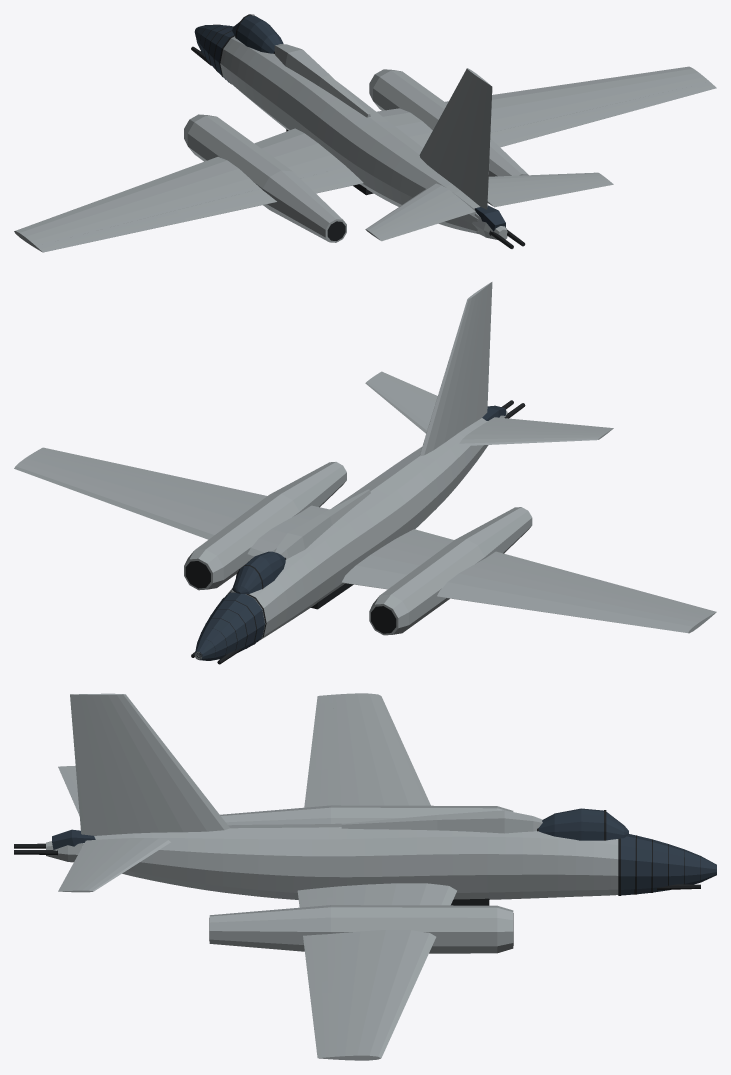
The picture shows the model from 3 angles, top to bottom: view 1: azimuth 30°, elevation 25°; view 2: azimuth 150°, elevation 25°; view 3: azimuth 270°, elevation 25°; orthographic projection. The views are drawn at different scales.
Visible parts, largest first — view 1: Fuselage, Wing L, Nacelles, Wing R, Vertical Fin, Rudder, Flap L, Stabilizer L, Dorsal Fairing, Stabilizer R, Flap R, Elevator R (+7 smaller); view 2: Fuselage, Nacelles, Wing L, Wing R, Vertical Fin, Nose Glass, Stabilizer L, Rudder, Dorsal Fairing, Stabilizer R, Cockpit Glass, Flap L (+4 smaller); view 3: Fuselage, Nacelles, Wing R, Vertical Fin, Wing L, Rudder, Nose Glass, Dorsal Fairing, Stabilizer R, Cockpit Glass, Flap R, Aileron R (+3 smaller).
Part boxes in pixels (box(x1,y1,x2,y2)): Fuselage: box(220, 36, 480, 233); Wing L: box(14, 128, 363, 252); Nacelles: box(184, 69, 528, 242); Wing R: box(376, 66, 716, 147); Vertical Fin: box(419, 68, 483, 189); Rudder: box(460, 80, 492, 209); Flap L: box(176, 171, 344, 221); Stabilizer L: box(365, 183, 461, 237); Dorsal Fairing: box(274, 44, 370, 117); Stabilizer R: box(488, 172, 607, 194); Flap R: box(490, 114, 580, 147); Elevator R: box(487, 180, 613, 207); Fuselage: box(195, 418, 488, 659); Nacelles: box(184, 462, 532, 635); Wing L: box(342, 529, 716, 633); Wing R: box(14, 447, 313, 556); Vertical Fin: box(419, 288, 483, 456); Nose Glass: box(194, 592, 264, 660); Stabilizer L: box(459, 425, 608, 446); Rudder: box(465, 282, 492, 428); Dorsal Fairing: box(275, 489, 370, 558); Stabilizer R: box(365, 375, 434, 433); Cockpit Glass: box(232, 551, 285, 593); Flap L: box(416, 534, 579, 580); Fuselage: box(82, 823, 618, 899); Nacelles: box(209, 805, 513, 953); Wing R: box(297, 883, 456, 1060); Vertical Fin: box(90, 693, 229, 833); Wing L: box(308, 693, 430, 805); Rudder: box(70, 694, 135, 835); Nose Glass: box(621, 834, 716, 895); Dorsal Fairing: box(341, 810, 542, 833); Stabilizer R: box(70, 838, 170, 892); Cockpit Glass: box(538, 808, 628, 840); Flap R: box(299, 897, 335, 982); Aileron R: box(310, 992, 333, 1049).
Bounding box in the file's own units: 21.46 × 5.73 × 17.6.
